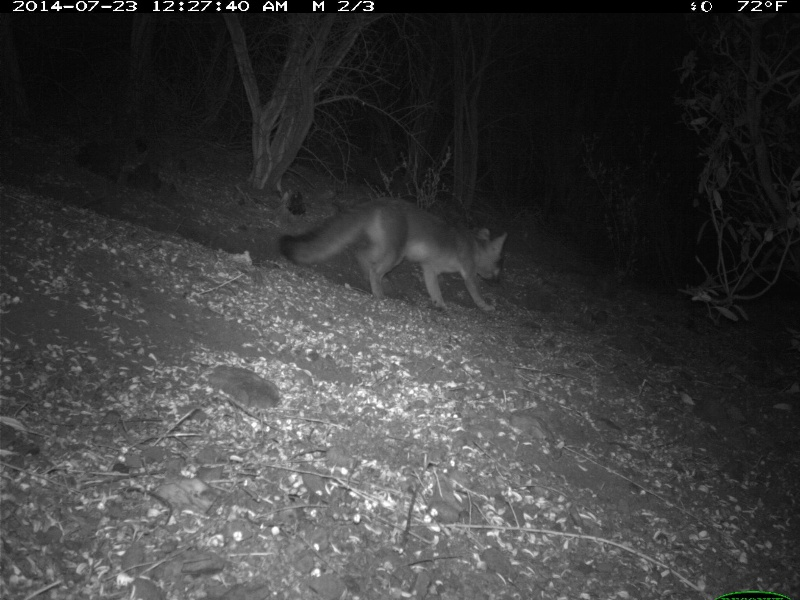fox: (276, 191, 509, 319)
